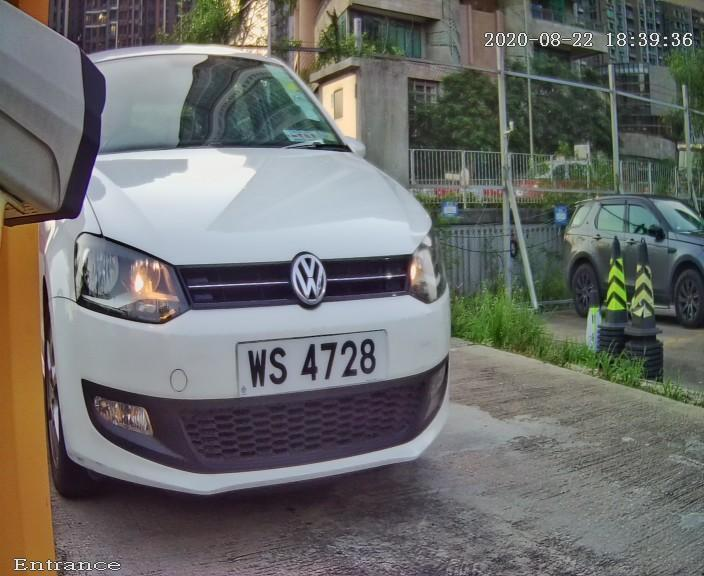Car: (7, 8, 488, 533)
License Plate: (215, 302, 414, 417)
